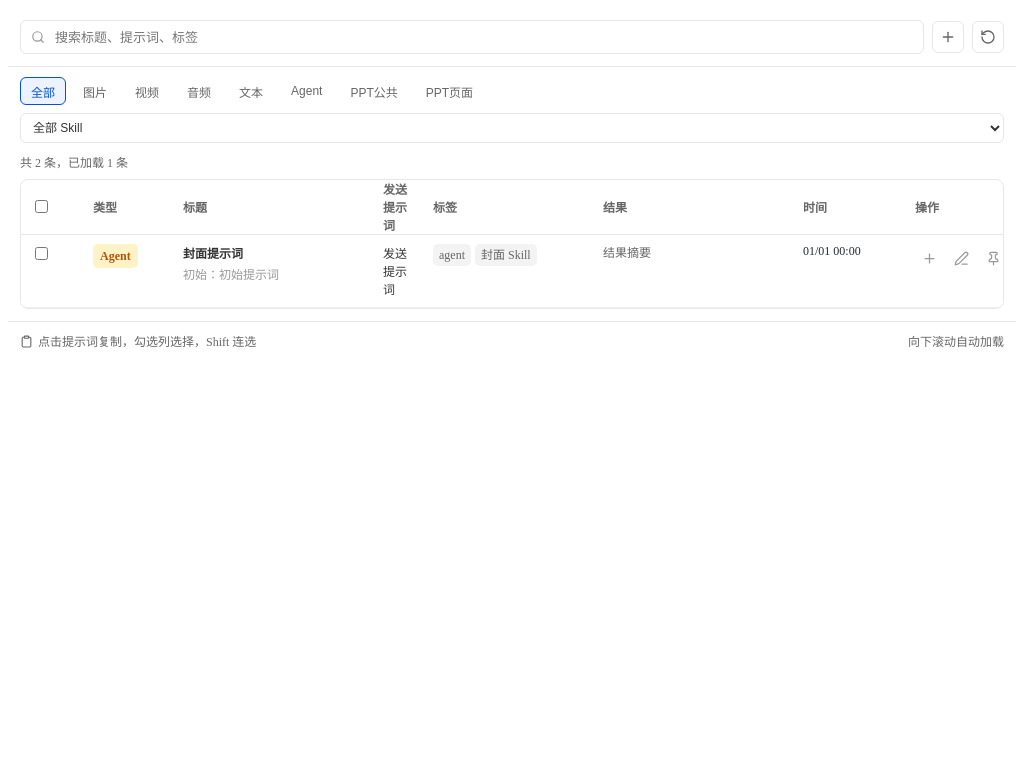
Test: PromptHistoryTool › 支持基于行复制创建并预填当前行内容
Click the button named "基于 封面提示词 创建".
click(929, 258)  # box [915,244,943,272]
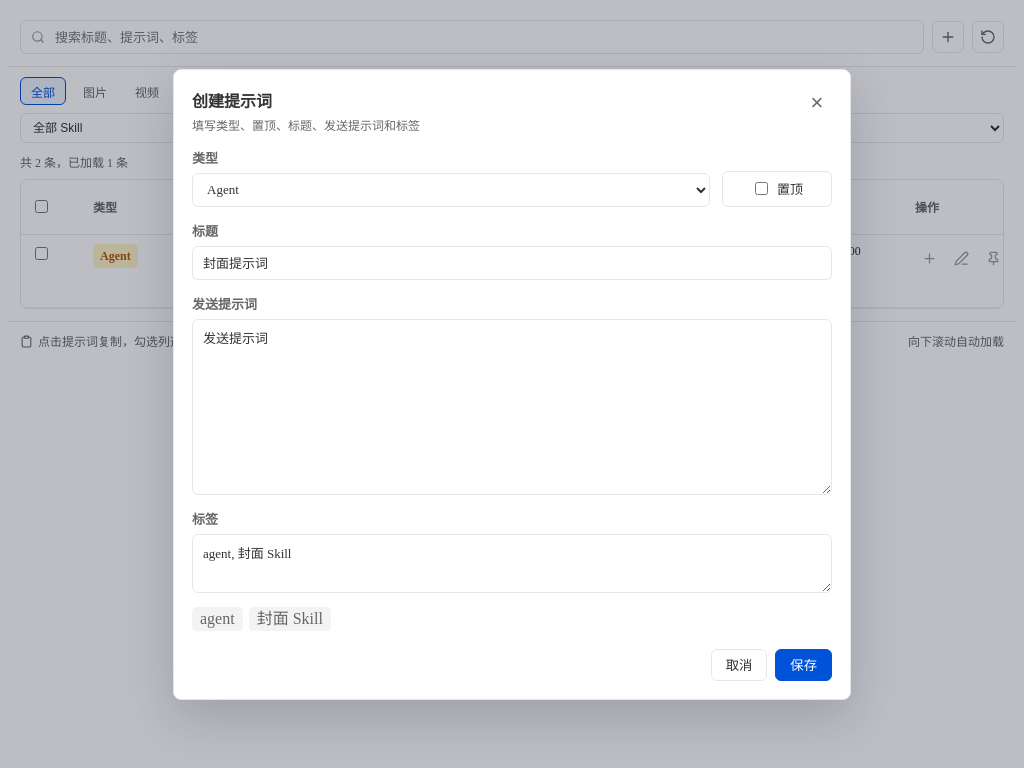
expect the field with placeholder "输入标题" holds "封面提示词": met, box [192,246,832,280]
expect the text box with placeholder "输入发送提示词" holds "发送提示词": met, box [192,318,832,494]
expect the dropdown labelled "类型" shows "Agent": met, box [192,172,710,206]
